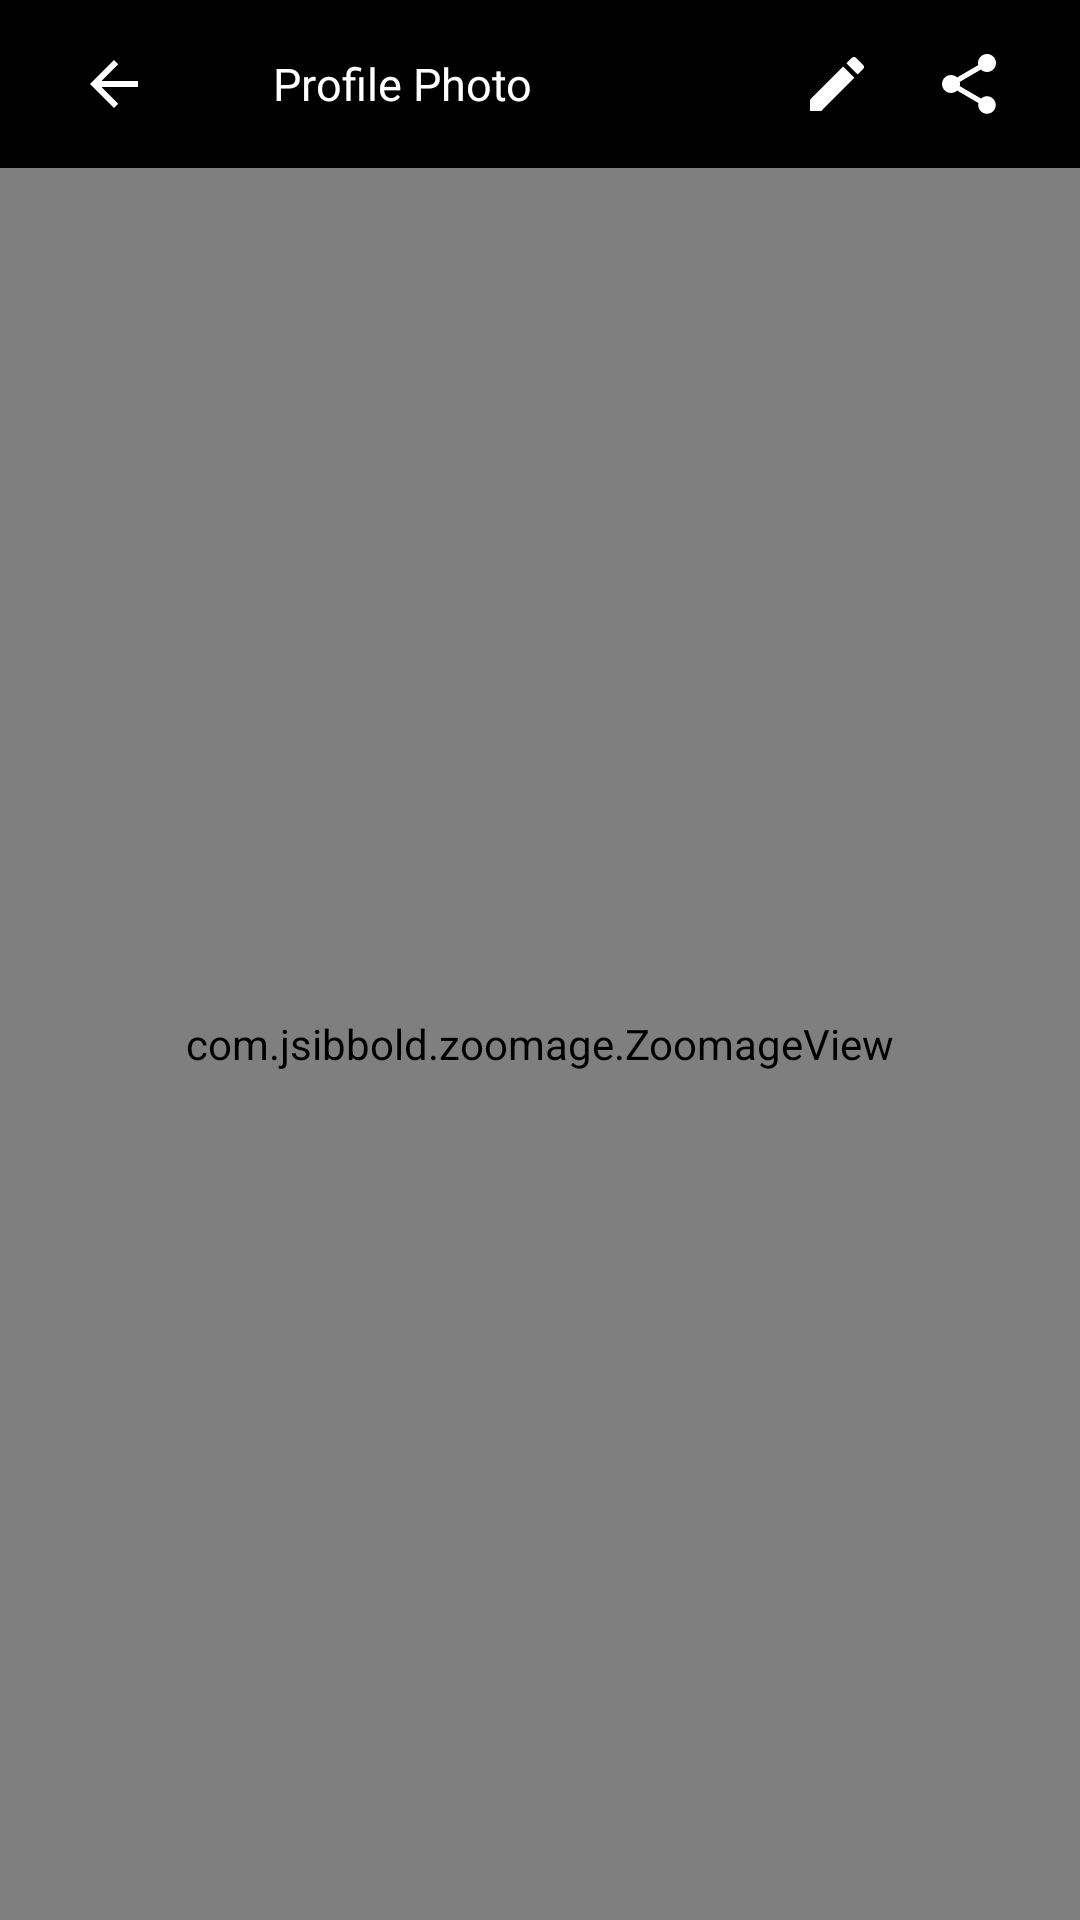

Named icons in this screenshot (1080×1920) and their centers, (x=x, y=y):
arrow back: (x=114, y=84)
edit: (x=837, y=84)
share: (x=969, y=84)
